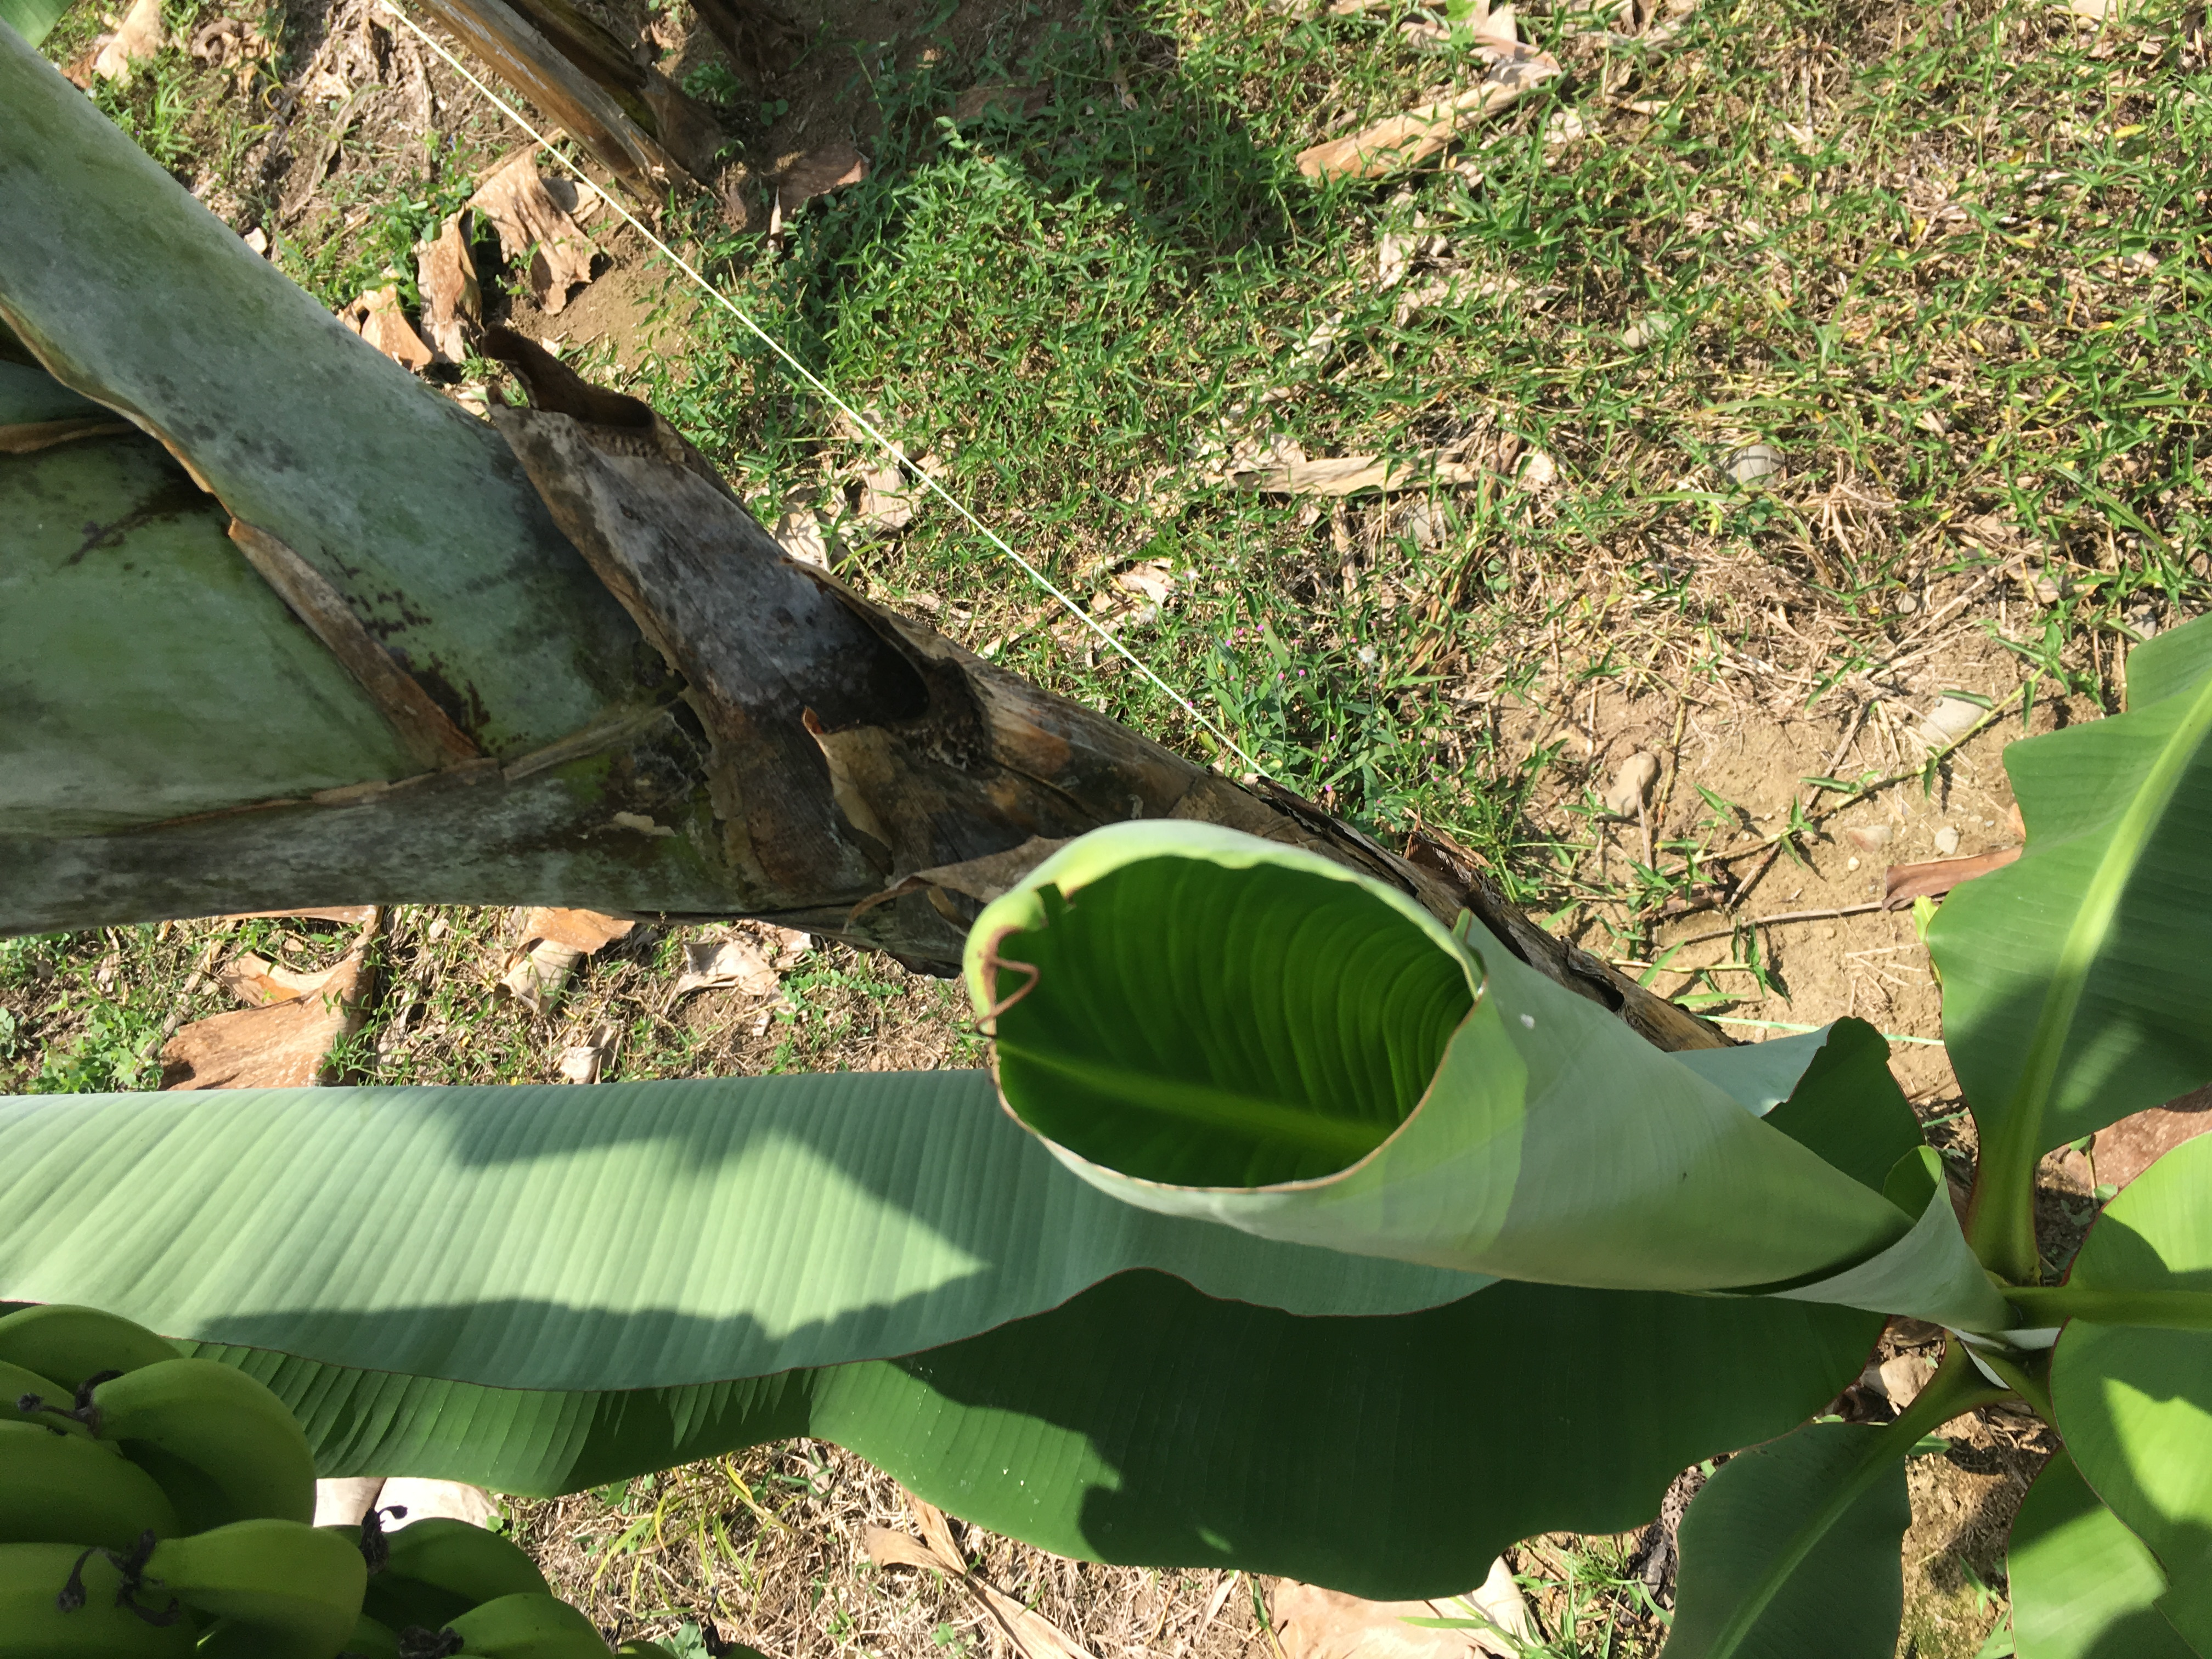candleleafs: (958, 812, 2003, 1340)
